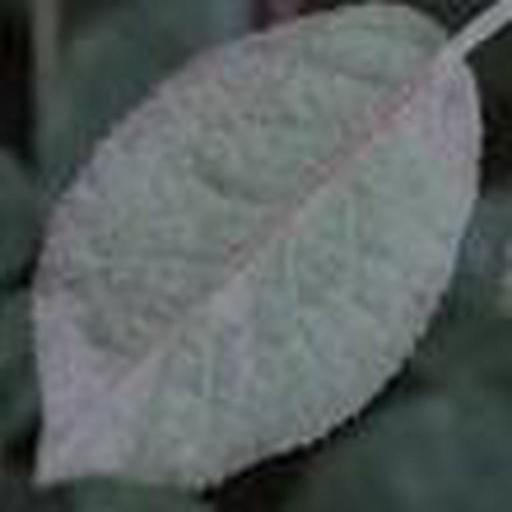powdery_mildew: (32, 0, 512, 488)
